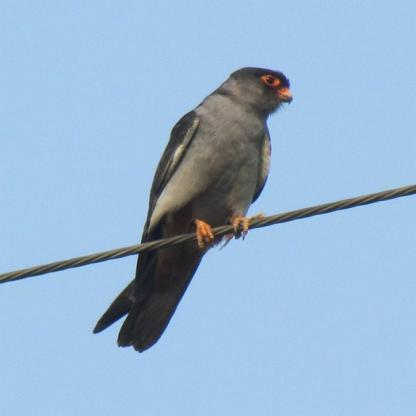Burung: (86, 64, 296, 359)
